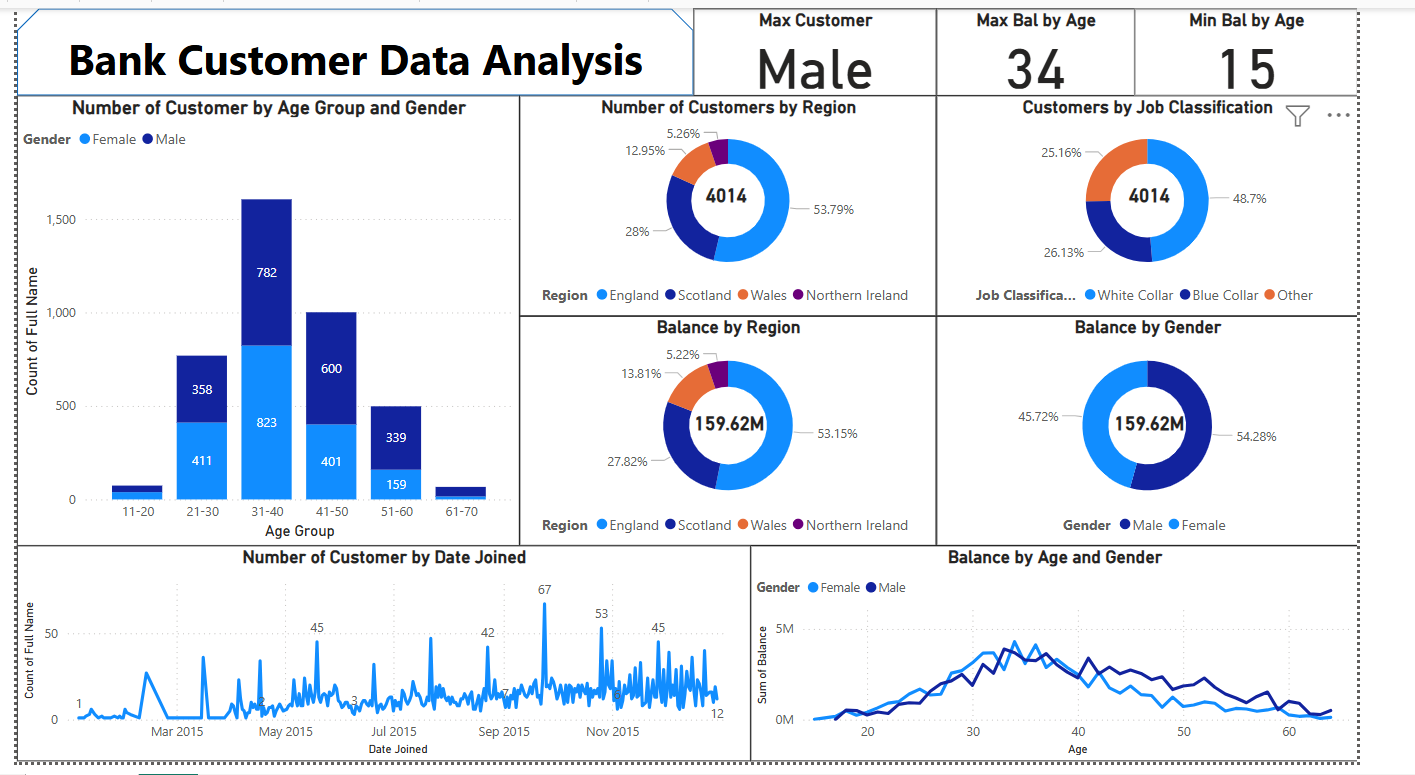

This screenshot's page, from the dashboard's own definition file:
{"tool":"powerbi","page":{"name":"Page 1","canvas":[1280,720],"ordinal":0},"visuals":[{"type":"lineChart","title":"Balance by Age and Gender","fields":{"Y":["Bank Data Analysis.Balance"],"Category":["Bank Data Analysis.Age"],"Series":["Bank Data Analysis.Gender"]},"box":[700.4,514.2,580.1,206.3],"z":0},{"type":"columnChart","title":"Number of Customer by Age Group and Gender","fields":{"Category":["Bank Data Analysis.Age Group"],"Y":["Bank Data Analysis.Full Name"],"Series":["Bank Data Analysis.Gender"]},"box":[0,84.5,479.9,429.7],"z":1000},{"type":"donutChart","title":"Number of Customers by Region","fields":{"Y":["Bank Data Analysis.Full Name"],"Category":["Bank Data Analysis.Region"]},"box":[479.9,84.5,398.2,210.6],"z":2000},{"type":"donutChart","title":"Balance by Region","fields":{"Y":["Bank Data Analysis.Balance"],"Category":["Bank Data Analysis.Region"]},"box":[479.9,295.1,398.2,219.2],"z":3000},{"type":"donutChart","title":"Customers by Job Classification","fields":{"Y":["Bank Data Analysis.Full Name"],"Category":["Bank Data Analysis.Job Classification"]},"box":[878.1,84.5,402.5,210.6],"z":4000},{"type":"donutChart","title":" Balance by Gender","fields":{"Y":["Bank Data Analysis.Balance"],"Category":["Bank Data Analysis.Gender"]},"box":[878.1,295.1,402.5,219.2],"z":5000},{"type":"lineChart","title":"Number of Customer by Date Joined","fields":{"Y":["Bank Data Analysis.Full Name"],"Category":["Bank Data Analysis.Date Joined"]},"box":[0,514.2,700.4,206.3],"z":5001},{"type":"card","title":"Max Bal by Age","fields":{"Values":["Bank Data Analysis.Age"]},"box":[878.1,1.4,189.1,83.1],"z":5002},{"type":"card","title":"Min Bal by Age","fields":{"Values":["Bank Data Analysis.Age"]},"box":[1067.1,1.4,213.4,83.1],"z":5003},{"type":"card","title":"Max Customer","fields":{"Values":["Bank Data Analysis.Gender"]},"box":[646,1.4,232,83.1],"z":5004},{"type":"shape","box":[0,1.4,646,83.1],"z":5005},{"type":"card","fields":{"Values":["Bank Data Analysis.Full Name"]},"box":[622.3,143.8,110.5,74.2],"z":5006},{"type":"card","fields":{"Values":["Bank Data Analysis.Full Name"]},"box":[1025.1,143.8,110.5,74.2],"z":5007},{"type":"card","fields":{"Values":["Bank Data Analysis.Balance"]},"box":[623.9,360.4,110.5,74.2],"z":5008},{"type":"card","fields":{"Values":["Bank Data Analysis.Balance"]},"box":[1025.1,360.4,110.5,74.2],"z":5009}]}

Visuals, with their boxes in screenshot pixels (x1, y1, x2, y2), scaled from the page's 1280x720 canvas onto the 1415x775 screenshot:
"Balance by Age and Gender" lineChart: <bbox>774, 553, 1414, 774</bbox>
"Number of Customer by Age Group and Gender" columnChart: <bbox>0, 91, 531, 553</bbox>
"Number of Customers by Region" donutChart: <bbox>531, 91, 971, 318</bbox>
"Balance by Region" donutChart: <bbox>531, 318, 971, 554</bbox>
"Customers by Job Classification" donutChart: <bbox>971, 91, 1414, 318</bbox>
" Balance by Gender" donutChart: <bbox>971, 318, 1414, 554</bbox>
"Number of Customer by Date Joined" lineChart: <bbox>0, 553, 774, 774</bbox>
"Max Bal by Age" card: <bbox>971, 2, 1180, 91</bbox>
"Min Bal by Age" card: <bbox>1180, 2, 1414, 91</bbox>
"Max Customer" card: <bbox>714, 2, 971, 91</bbox>
shape: <bbox>0, 2, 714, 91</bbox>
card - Bank Data Analysis.Full Name: <bbox>688, 155, 810, 235</bbox>
card - Bank Data Analysis.Full Name: <bbox>1133, 155, 1255, 235</bbox>
card - Bank Data Analysis.Balance: <bbox>690, 388, 812, 468</bbox>
card - Bank Data Analysis.Balance: <bbox>1133, 388, 1255, 468</bbox>
